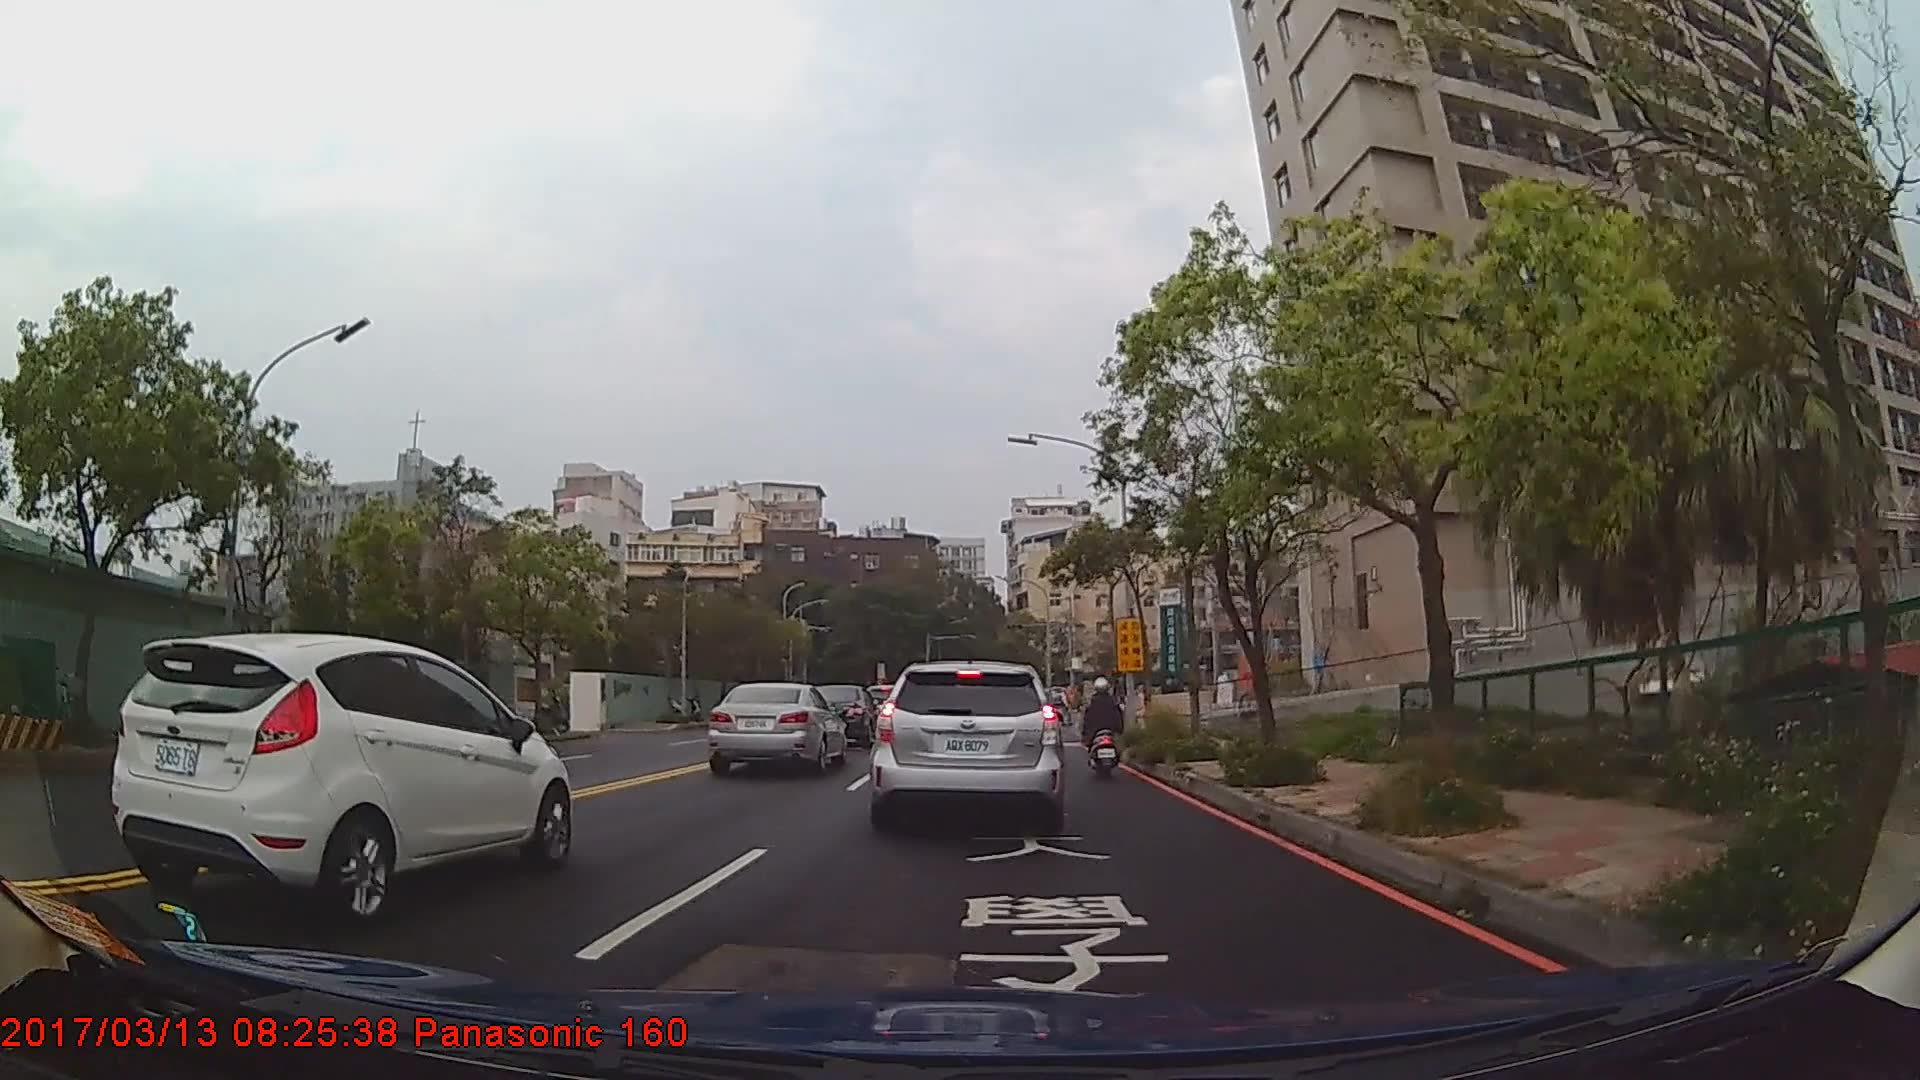rider: (1081, 677, 1125, 783)
vehicle: (108, 629, 571, 926), (868, 659, 1063, 830), (706, 679, 845, 775), (801, 683, 876, 746)
